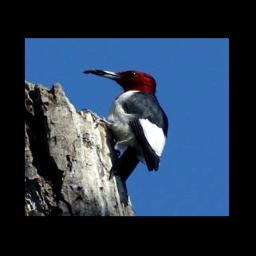Woodpecker: (84, 68, 169, 207)
